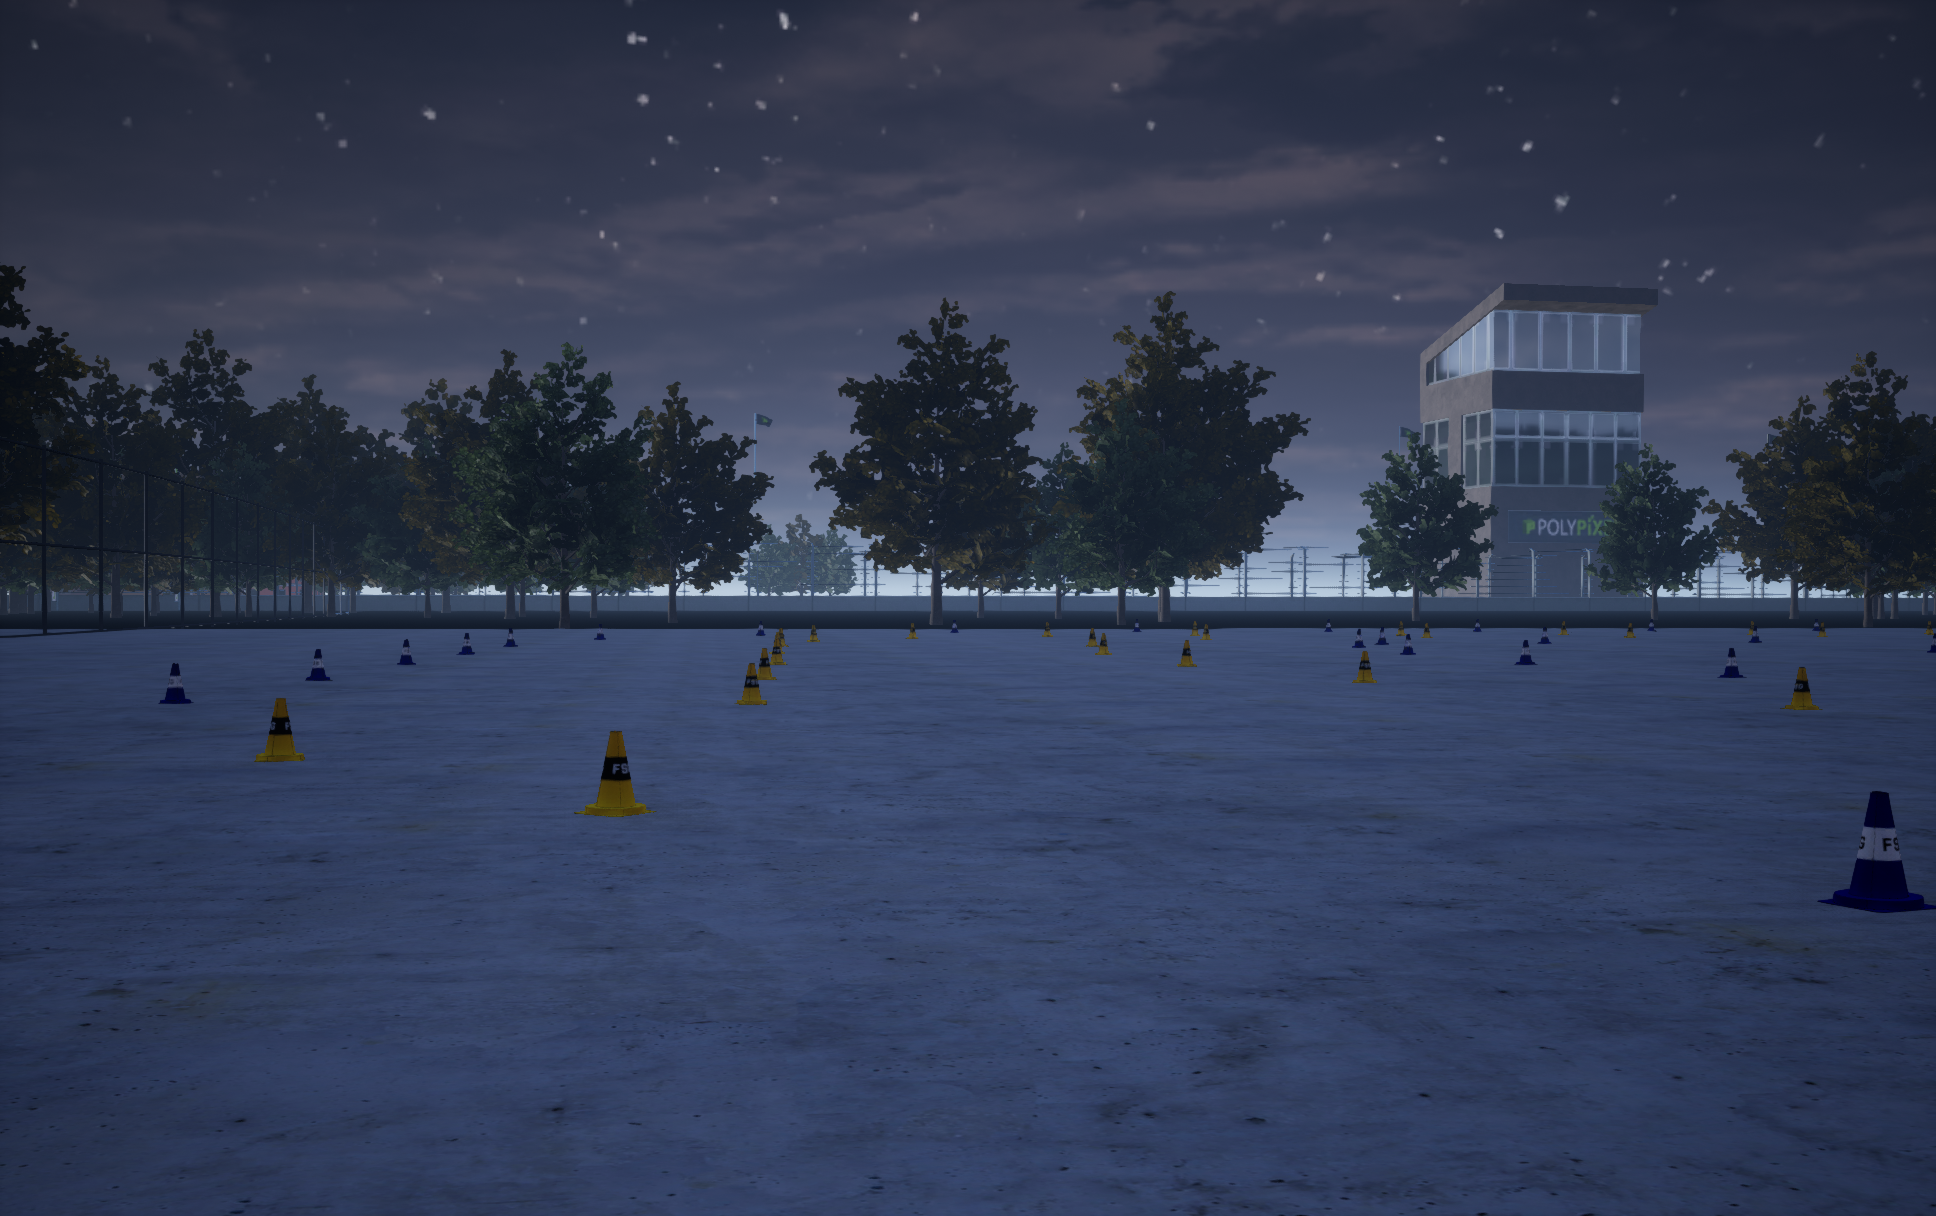blue: (574, 731, 656, 815), (254, 698, 304, 761), (1781, 667, 1823, 709), (734, 663, 766, 705), (1352, 651, 1376, 682), (756, 649, 776, 679), (1177, 640, 1196, 665), (769, 639, 787, 664), (1095, 633, 1111, 654), (769, 632, 784, 653), (1084, 628, 1100, 646)
yellow: (1817, 792, 1935, 912), (158, 663, 193, 703), (305, 649, 332, 679), (1717, 649, 1745, 677), (1514, 640, 1537, 664), (396, 639, 415, 664), (457, 633, 473, 654), (1399, 635, 1415, 654), (503, 628, 517, 646), (1352, 629, 1364, 647)
